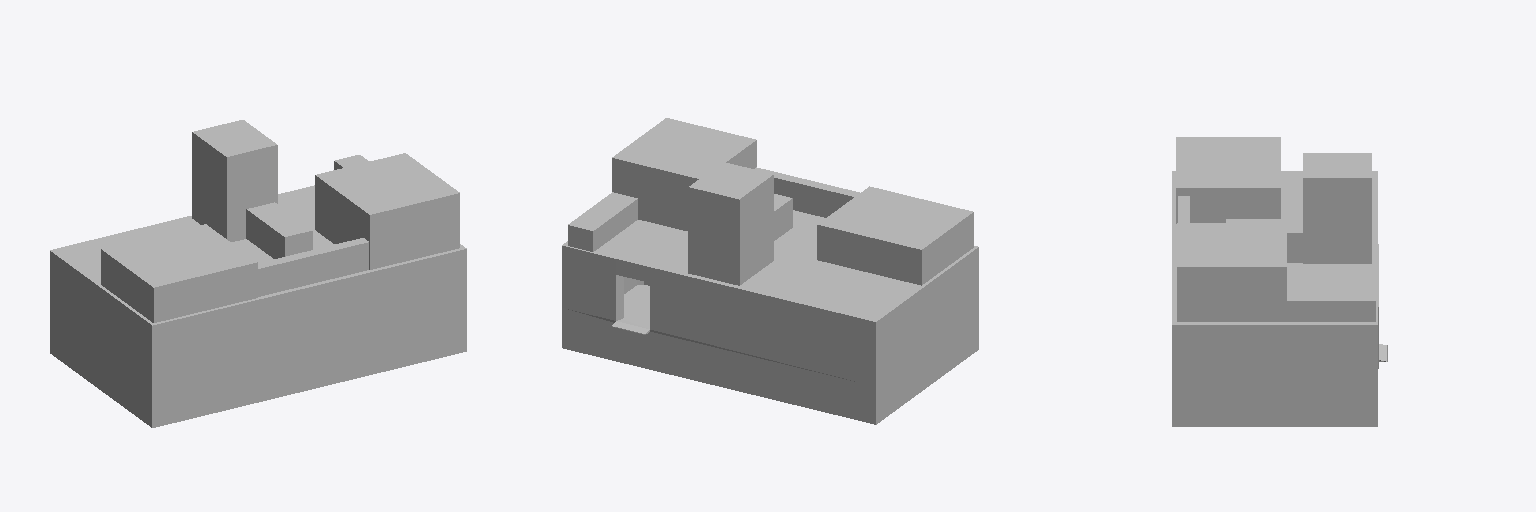
Rendered from small town.obj.
The picture shows the model from 3 angles: view 1: azimuth 30°, elevation 25°; view 2: azimuth 150°, elevation 25°; view 3: azimuth 270°, elevation 25°; orthographic projection.
Visible parts, largest first — view 1: Cube_Cube.001, Cube.001_Cube.002, Cube.006_Cube.007, Cube.003_Cube.004, Cube.005_Cube.006, Cube.004_Cube.005; view 2: Cube_Cube.001, Cube.006_Cube.007, Cube.003_Cube.004, Cube.001_Cube.002, Cube.002_Cube.003, Cube.005_Cube.006, Cube.004_Cube.005; view 3: Cube_Cube.001, Cube.001_Cube.002, Cube.006_Cube.007, Cube.003_Cube.004, Cube.002_Cube.003, Cube.004_Cube.005.
Part boxes in pixels (bbox=[...]): Cube_Cube.001: bbox=[50, 185, 466, 427]; Cube.001_Cube.002: bbox=[315, 153, 459, 269]; Cube.006_Cube.007: bbox=[101, 224, 257, 322]; Cube.003_Cube.004: bbox=[192, 120, 277, 241]; Cube.005_Cube.006: bbox=[258, 238, 368, 296]; Cube.004_Cube.005: bbox=[246, 202, 312, 258]; Cube_Cube.001: bbox=[562, 210, 978, 424]; Cube.006_Cube.007: bbox=[817, 186, 973, 285]; Cube.003_Cube.004: bbox=[688, 162, 773, 285]; Cube.001_Cube.002: bbox=[612, 118, 756, 230]; Cube.002_Cube.003: bbox=[568, 192, 637, 251]; Cube.005_Cube.006: bbox=[755, 167, 859, 217]; Cube.004_Cube.005: bbox=[774, 194, 792, 240]; Cube_Cube.001: bbox=[1172, 171, 1387, 426]; Cube.001_Cube.002: bbox=[1177, 223, 1286, 321]; Cube.006_Cube.007: bbox=[1176, 137, 1280, 223]; Cube.003_Cube.004: bbox=[1303, 153, 1371, 263]; Cube.002_Cube.003: bbox=[1287, 288, 1375, 321]; Cube.004_Cube.005: bbox=[1226, 219, 1302, 262].
Bounding box in the file's own units: 104 × 59.7 × 61.53.